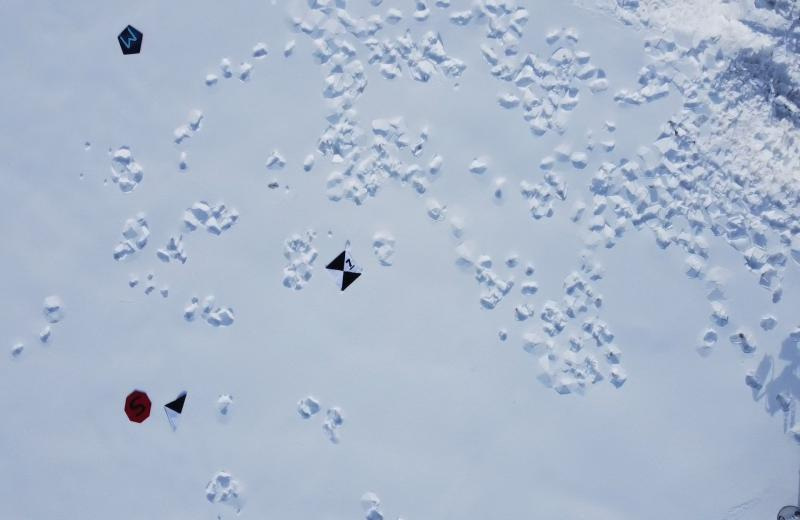Octagon: (124, 388, 154, 423)
Pentagon: (116, 24, 146, 57)
